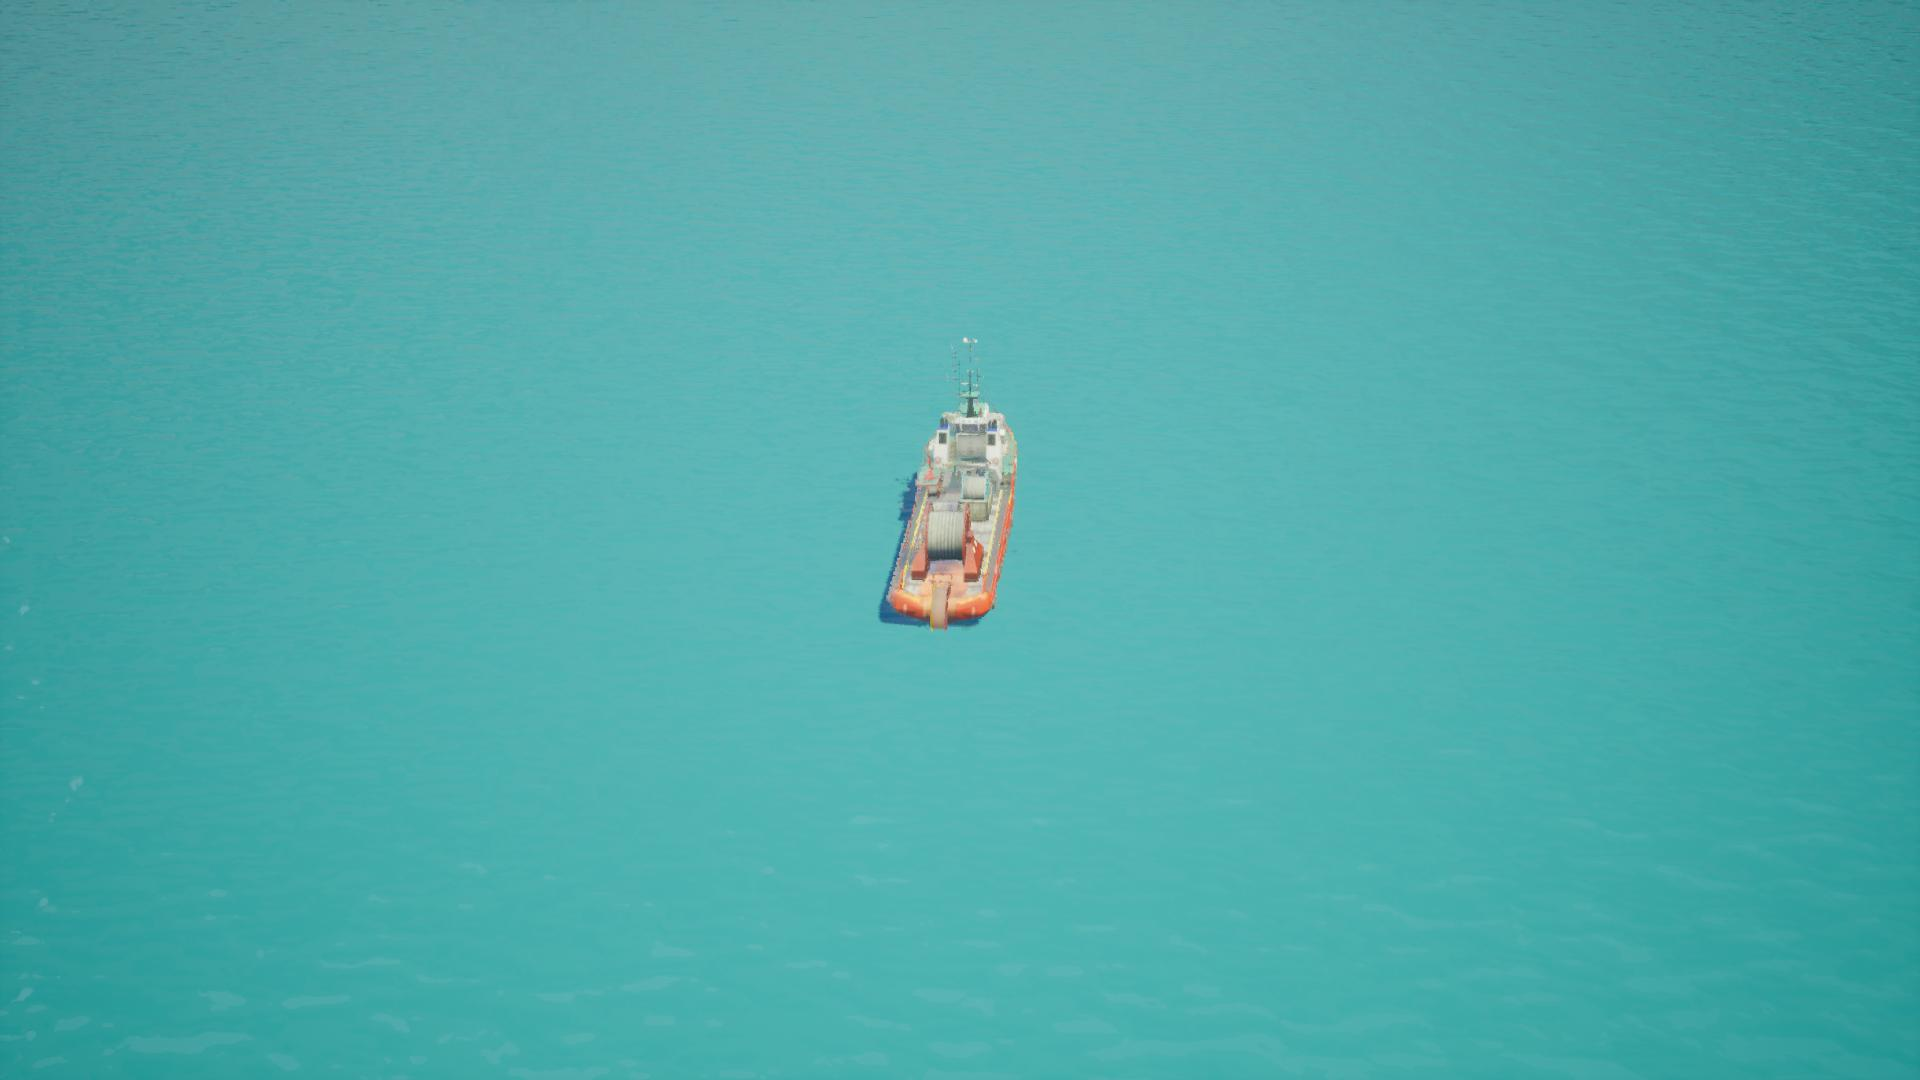Tug Boat: (874, 327, 1030, 626)
